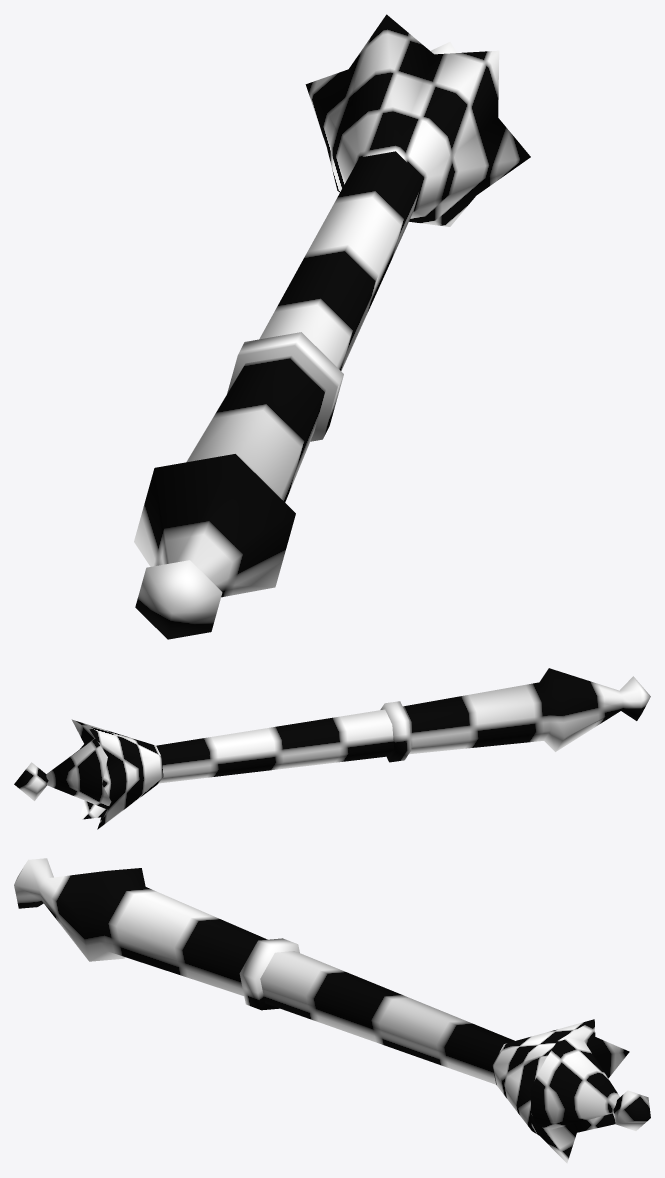
The model's file is initqi28.dae.
3 views of the same model, one above another, from view 1: azimuth 30°, elevation 25°; view 2: azimuth 150°, elevation 25°; view 3: azimuth 270°, elevation 25° (orthographic). The views are drawn at different scales.
Visible parts, largest first — view 1: item; view 2: item; view 3: item.
Boxes of the visible parts, x1=… form: item: x1=134, y1=14, x2=530, y2=639; item: x1=14, y1=668, x2=650, y2=829; item: x1=14, y1=858, x2=650, y2=1163.
Bounding box in the file's own units: 1.38 × 1.52 × 0.3477.
1 material, 1 textured.
